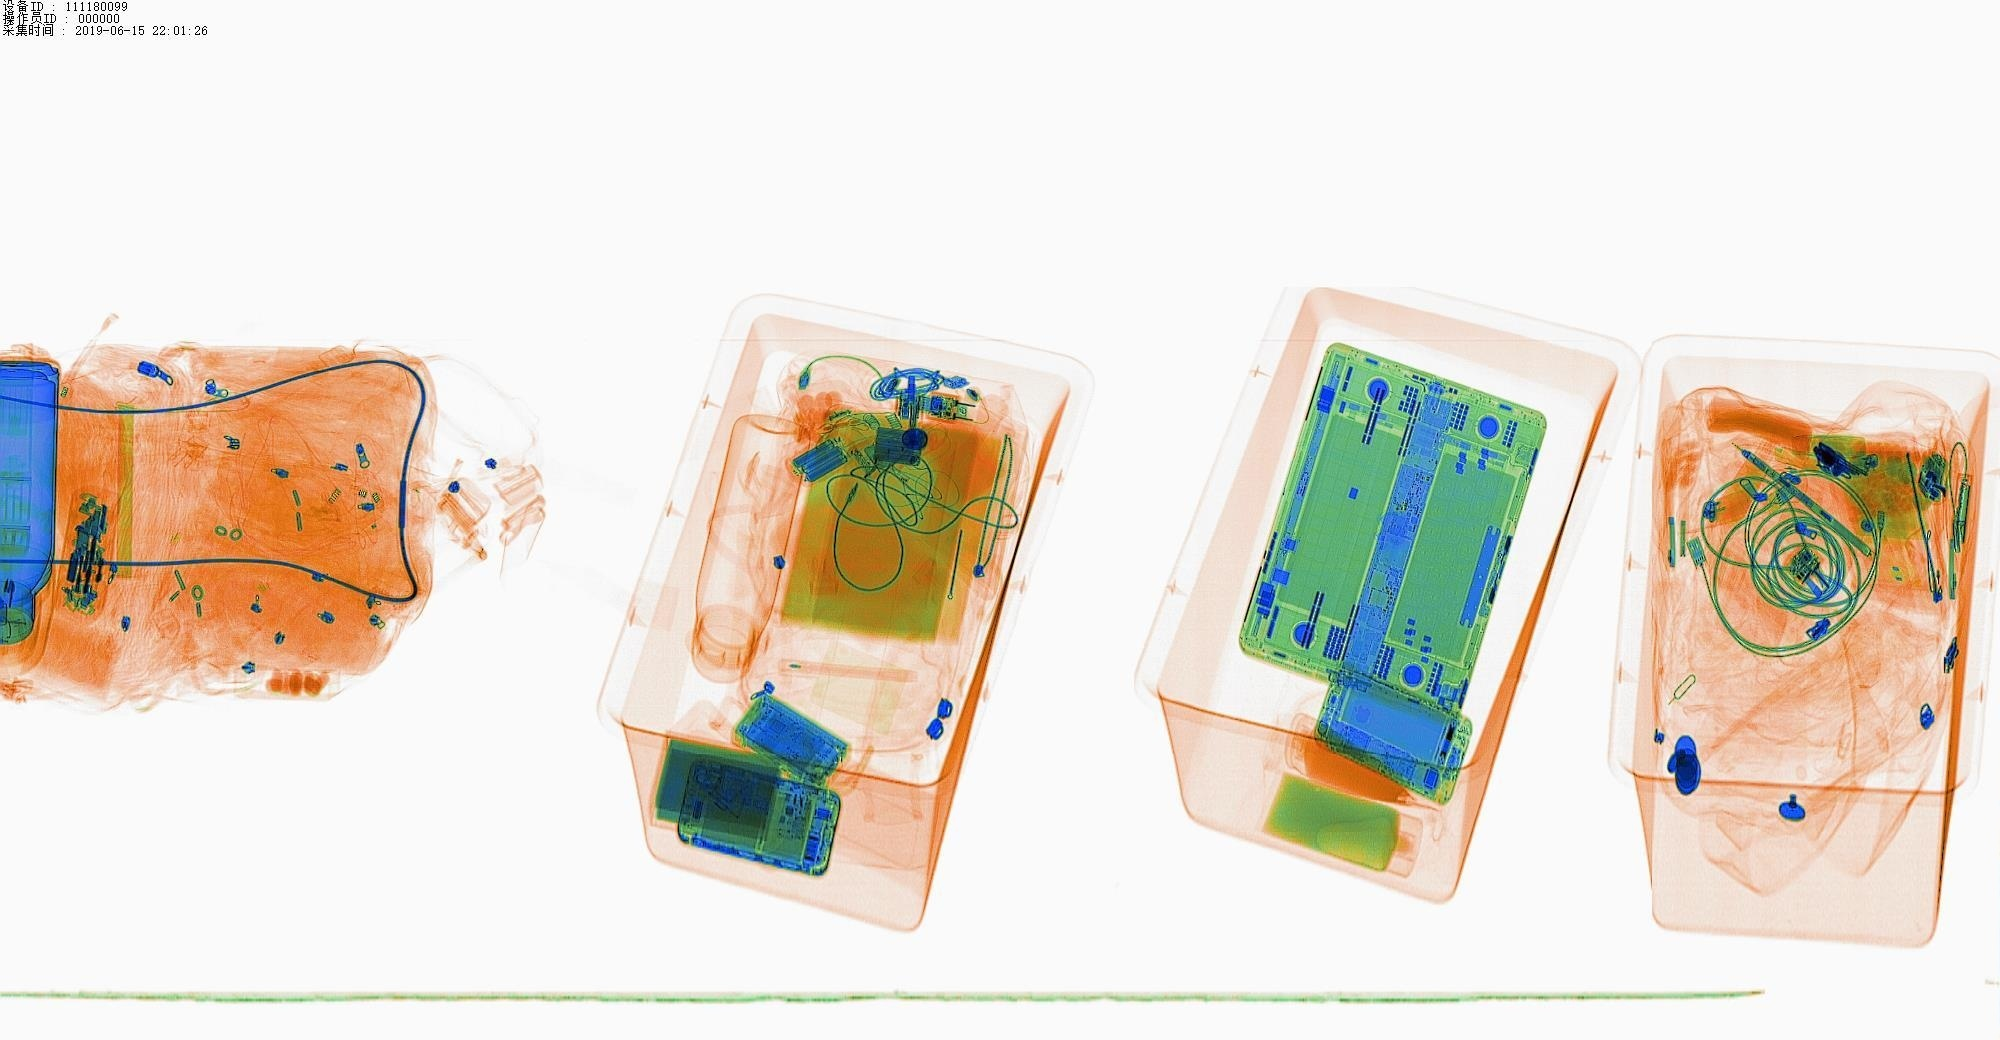NonmetallicFire: (1687, 484, 1759, 533), (1824, 437, 1888, 486)
